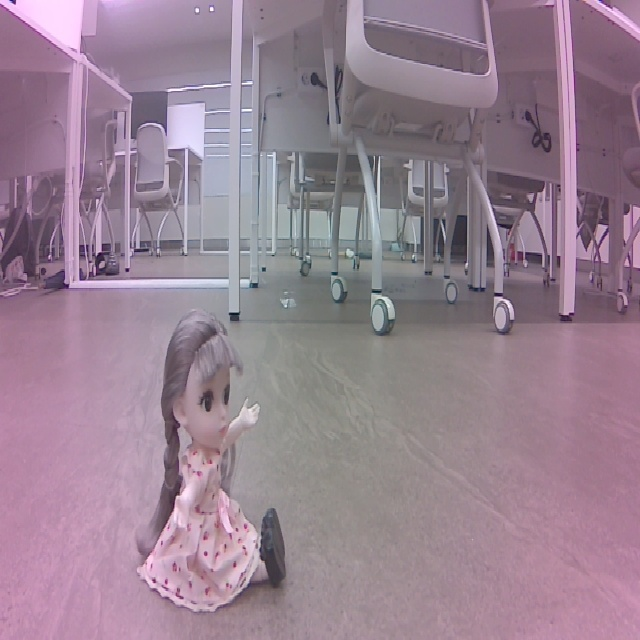장애물: (133, 301, 293, 608)
